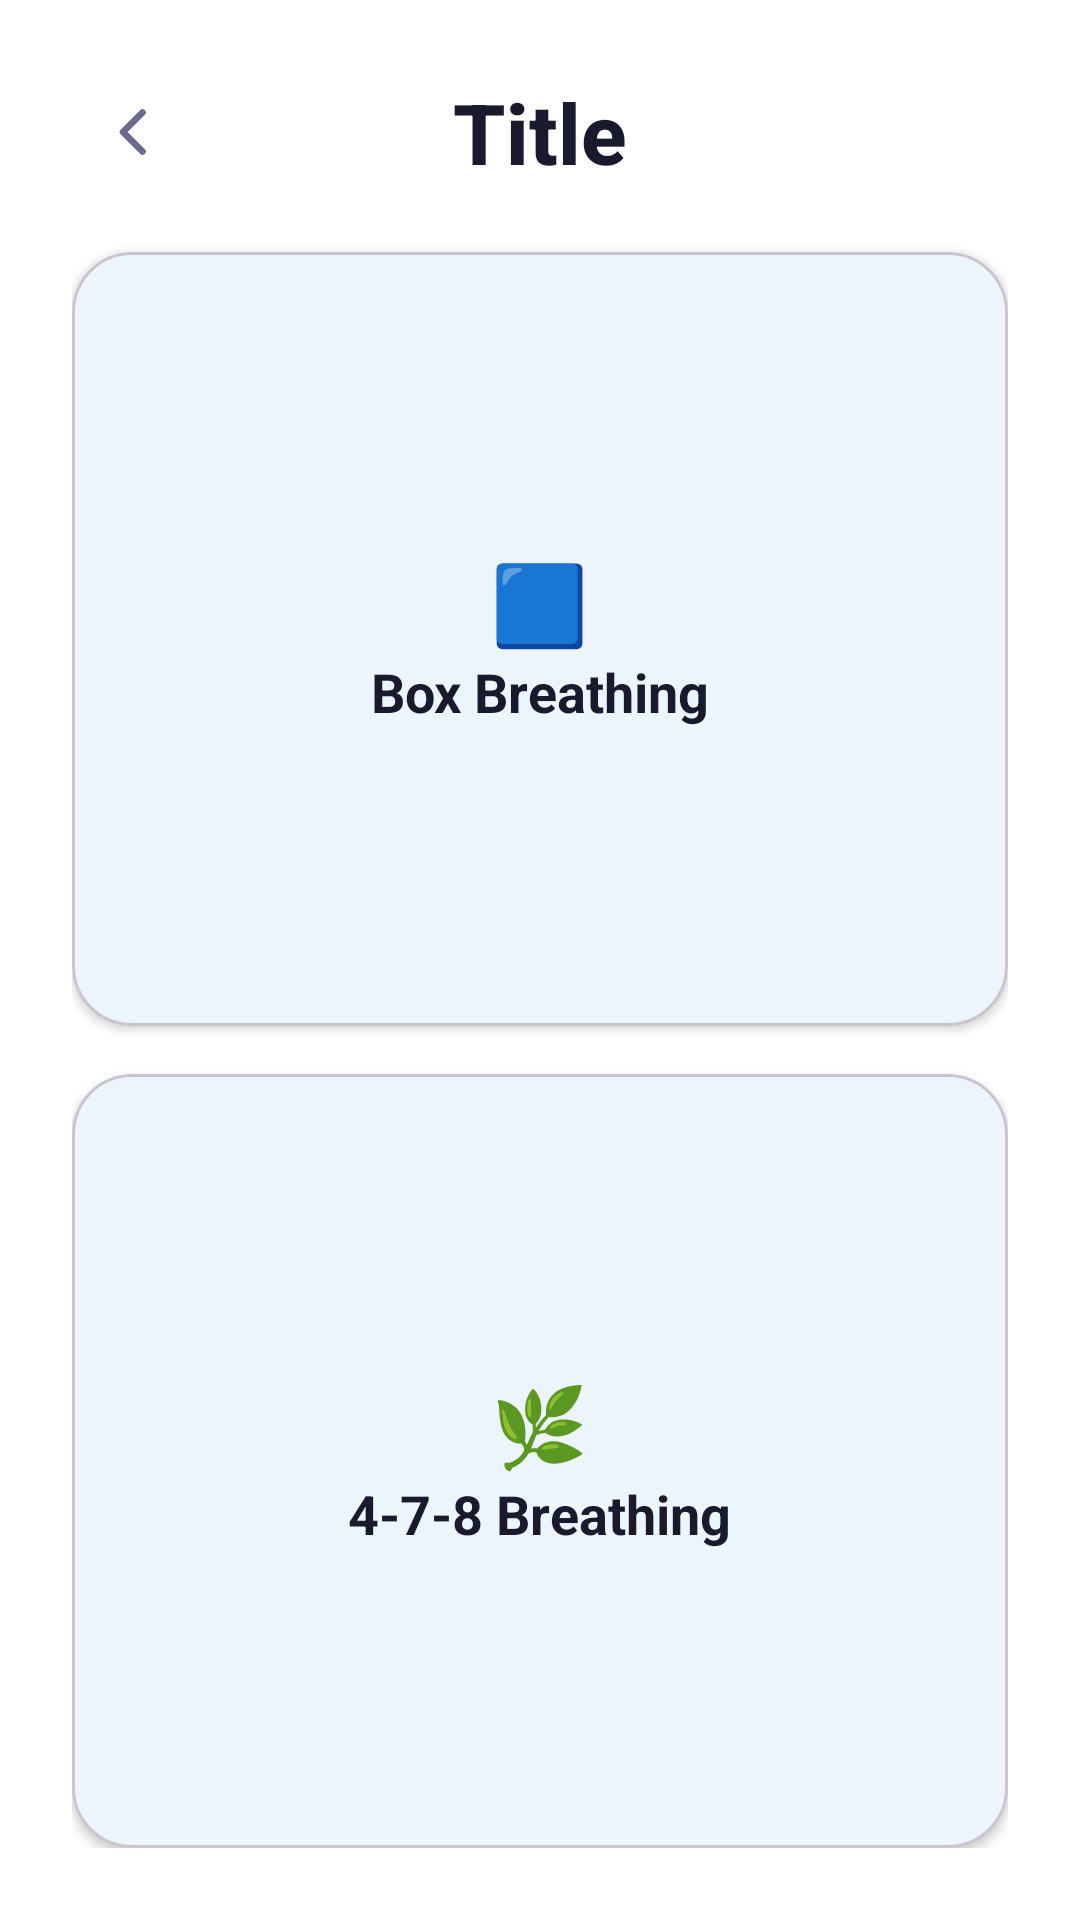

Icon click points for this 1080w x 1920h phone screenshot, format (x,y):
Back: (132,132)
